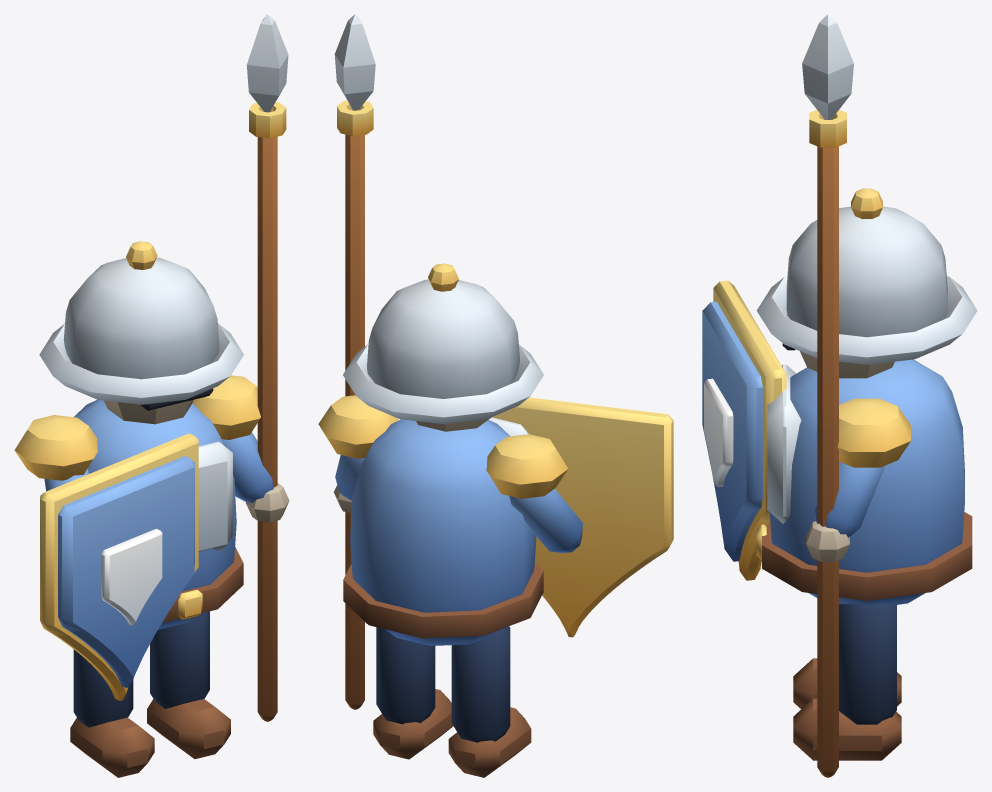
Rendered from Guard.fbx.
The picture shows the model from 3 angles, left to right: view 1: azimuth 30°, elevation 25°; view 2: azimuth 150°, elevation 25°; view 3: azimuth 270°, elevation 25°; orthographic projection. The views are drawn at different scales.
Parts seen in each view (by area): view 1: Guard_Arm.L, Guard_Head, Guard_Spine, Guard_Arm.R, Guard_Leg.R, Guard_Leg.L; view 2: Guard_Spine, Guard_Arm.L, Guard_Head, Guard_Arm.R, Guard_Leg.L, Guard_Leg.R; view 3: Guard_Spine, Guard_Head, Guard_Arm.R, Guard_Arm.L, Guard_Leg.R, Guard_Leg.L.
Boxes of the visible parts, bbox=[...] form: Guard_Arm.L: bbox=[40, 433, 198, 700]; Guard_Head: bbox=[39, 241, 243, 424]; Guard_Spine: bbox=[14, 375, 260, 629]; Guard_Arm.R: bbox=[222, 14, 289, 721]; Guard_Leg.R: bbox=[147, 611, 230, 758]; Guard_Leg.L: bbox=[70, 649, 154, 777]; Guard_Spine: bbox=[318, 395, 568, 645]; Guard_Arm.L: bbox=[492, 397, 673, 637]; Guard_Head: bbox=[343, 263, 543, 431]; Guard_Arm.R: bbox=[333, 14, 375, 709]; Guard_Leg.L: bbox=[448, 626, 531, 777]; Guard_Leg.R: bbox=[373, 627, 453, 759]; Guard_Spine: bbox=[756, 359, 972, 605]; Guard_Head: bbox=[756, 188, 977, 378]; Guard_Arm.R: bbox=[802, 14, 884, 777]; Guard_Arm.L: bbox=[702, 280, 786, 580]; Guard_Leg.R: bbox=[793, 603, 901, 760]; Guard_Leg.L: bbox=[793, 658, 901, 709].
Bounding box in the file's own units: 0.8495 × 1.98 × 0.635.
